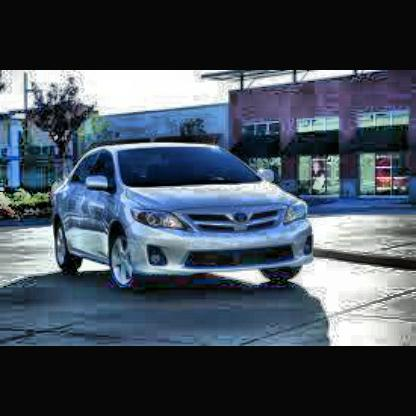Toyota Corolla Sedan 2012: (51, 139, 317, 300)
